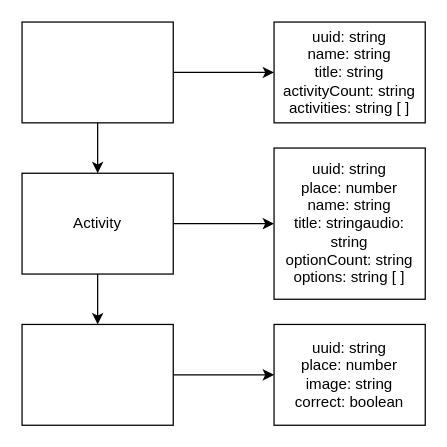
This 447x447 diagram has some shape labels left out. Each missing label, with the box of its shape:
Activity Group: (21, 21, 173, 123)
Option: (21, 323, 173, 425)
